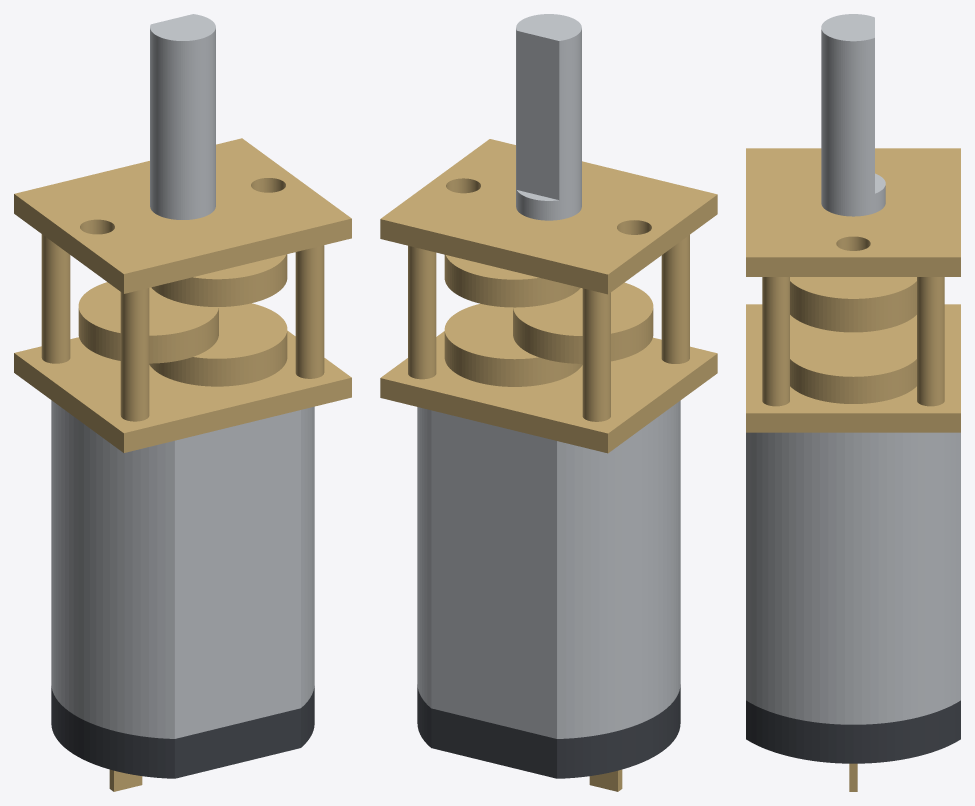
Rendered from model_full.glb.
3 renders of one model, left to right at view 1: azimuth 30°, elevation 25°; view 2: azimuth 150°, elevation 25°; view 3: azimuth 270°, elevation 25°, orthographic. The views are drawn at different scales.
Visible parts, largest first — view 1: motor_can, gearbox_plate_1, gearbox_plate_0, output_d_shaft, rear_cap, illustrative_gear_disc_1, illustrative_gear_disc_0, illustrative_gear_disc_2, gearbox_pillar_-4.6_-3.6, gearbox_pillar_4.6_-3.6, gearbox_pillar_-4.6_3.6; view 2: motor_can, gearbox_plate_1, gearbox_plate_0, output_d_shaft, rear_cap, illustrative_gear_disc_1, illustrative_gear_disc_0, illustrative_gear_disc_2, gearbox_pillar_-4.6_3.6, gearbox_pillar_4.6_3.6, gearbox_pillar_-4.6_-3.6; view 3: motor_can, gearbox_plate_1, output_d_shaft, gearbox_plate_0, illustrative_gear_disc_0, rear_cap, illustrative_gear_disc_2, gearbox_pillar_4.6_-3.6, gearbox_pillar_4.6_3.6, illustrative_gear_disc_1.
Part boxes in pixels (<box>): motor_can: <box>51,400,314,738</box>; gearbox_plate_1: <box>14,138,351,293</box>; gearbox_plate_0: <box>14,330,351,452</box>; output_d_shaft: <box>150,14,215,219</box>; rear_cap: <box>51,686,314,778</box>; illustrative_gear_disc_1: <box>78,282,218,363</box>; illustrative_gear_disc_0: <box>149,303,287,386</box>; illustrative_gear_disc_2: <box>151,254,287,306</box>; gearbox_pillar_-4.6_-3.6: <box>120,288,149,421</box>; gearbox_pillar_4.6_-3.6: <box>295,245,324,378</box>; gearbox_pillar_-4.6_3.6: <box>41,234,70,363</box>; motor_can: <box>417,400,680,738</box>; gearbox_plate_1: <box>380,139,717,294</box>; gearbox_plate_0: <box>380,331,717,453</box>; output_d_shaft: <box>516,14,581,220</box>; rear_cap: <box>417,684,680,778</box>; illustrative_gear_disc_1: <box>513,282,653,363</box>; illustrative_gear_disc_0: <box>444,303,582,386</box>; illustrative_gear_disc_2: <box>444,255,580,307</box>; gearbox_pillar_-4.6_3.6: <box>582,288,610,421</box>; gearbox_pillar_4.6_3.6: <box>408,245,436,379</box>; gearbox_pillar_-4.6_-3.6: <box>661,235,689,363</box>; motor_can: <box>746,432,960,724</box>; gearbox_plate_1: <box>746,148,960,276</box>; output_d_shaft: <box>821,14,885,216</box>; gearbox_plate_0: <box>746,304,960,432</box>; illustrative_gear_disc_0: <box>790,325,916,403</box>; rear_cap: <box>746,700,960,763</box>; illustrative_gear_disc_2: <box>790,277,916,326</box>; gearbox_pillar_4.6_-3.6: <box>762,277,789,406</box>; gearbox_pillar_4.6_3.6: <box>917,277,944,406</box>; illustrative_gear_disc_1: <box>790,308,916,332</box>.
Size of the model in its own units: 0.012 by 0.0375 by 0.01.
